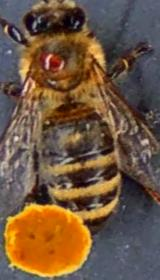varroa_mite: (32, 43, 70, 77)
